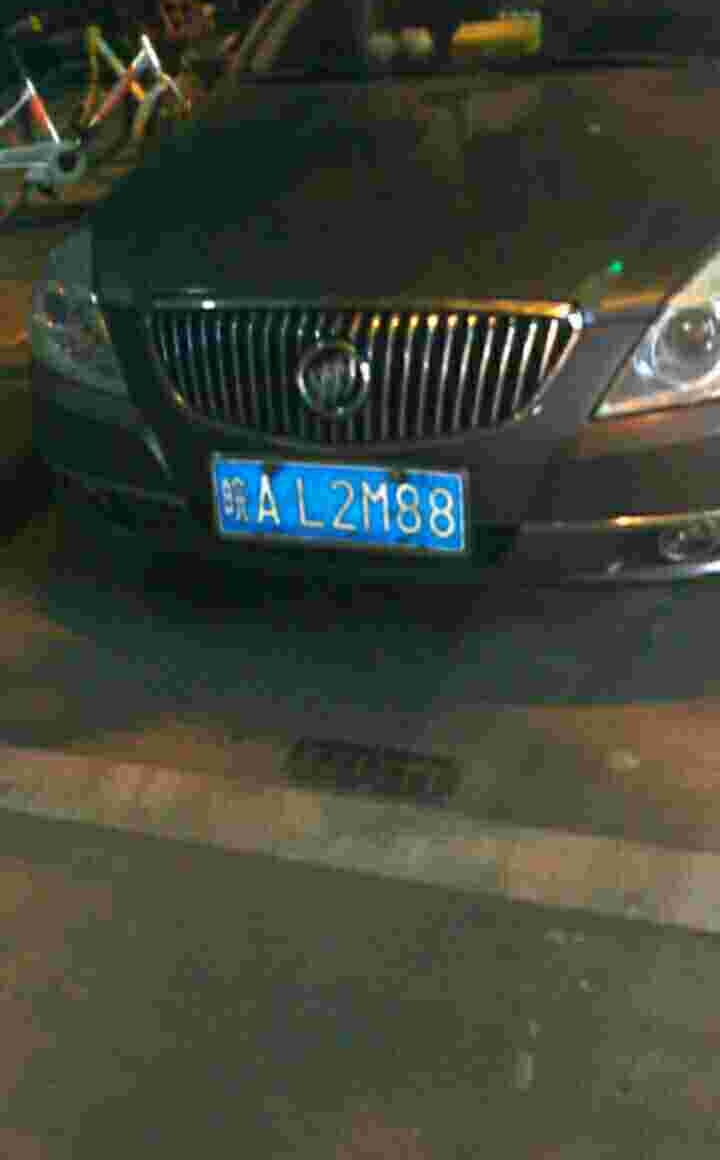license_plate: (208, 457, 461, 546)
